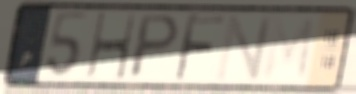5: (43, 10, 93, 82)
F: (171, 11, 228, 84)
H: (84, 11, 139, 83)
M: (260, 15, 317, 83)
N: (213, 13, 277, 84)
P: (125, 12, 183, 82)
